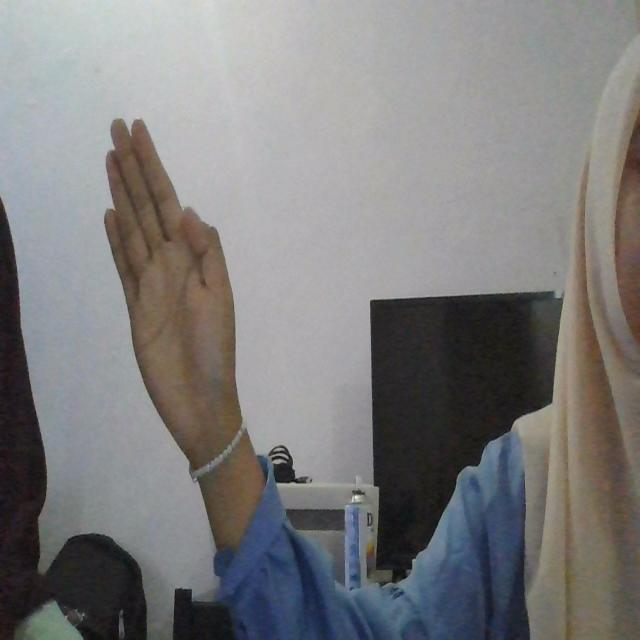hand: (101, 112, 241, 491)
